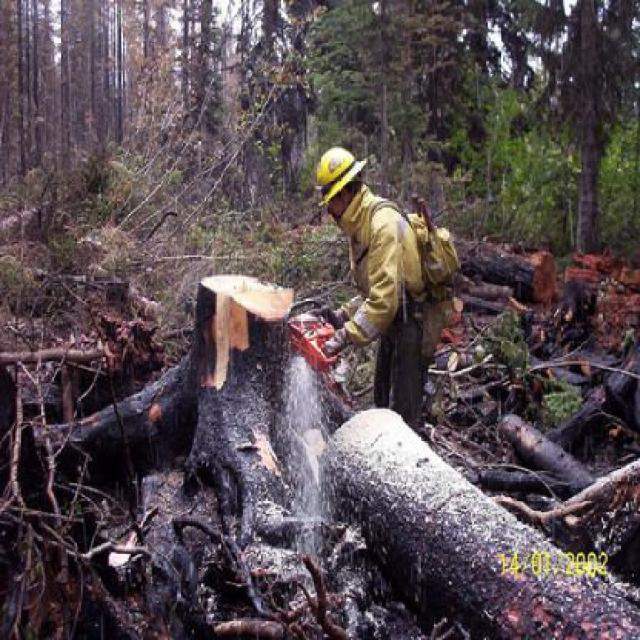Chainsaw: (284, 288, 344, 380)
